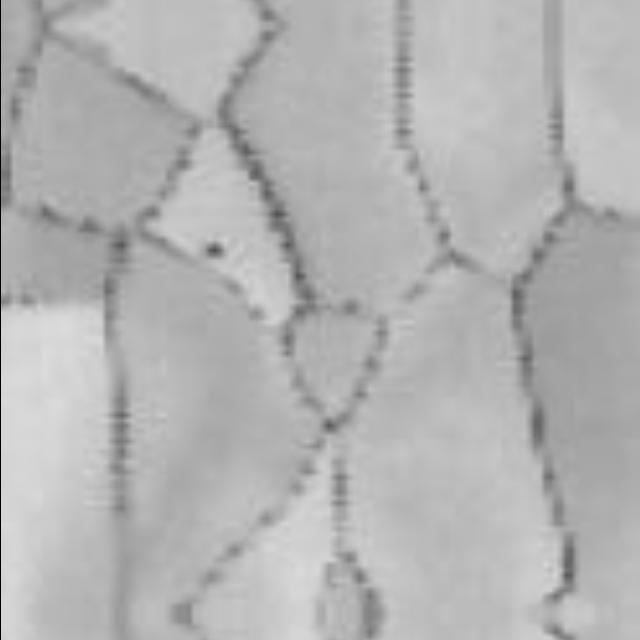good_void: (201, 242, 222, 252)
